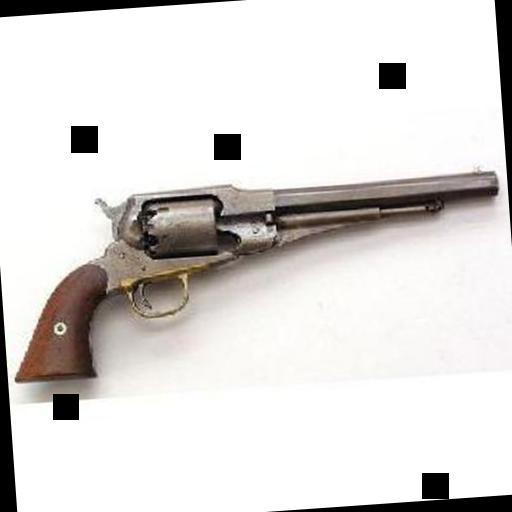Handgun: (0, 159, 507, 382)
